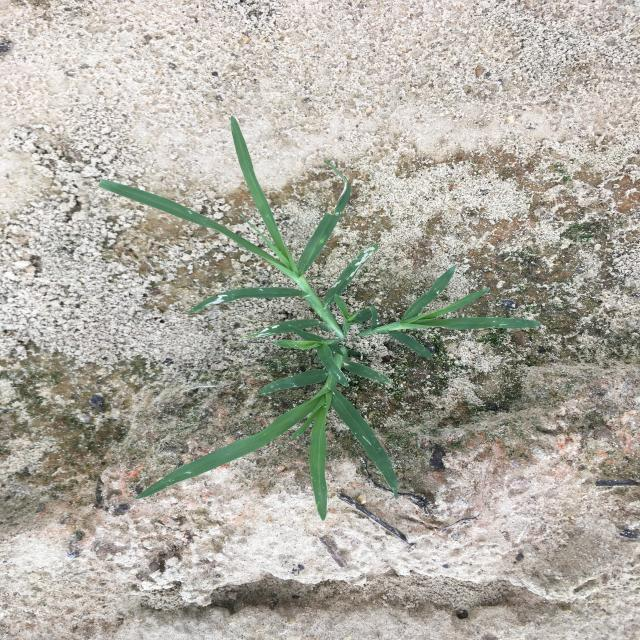Goosegrass: (96, 115, 542, 521)
